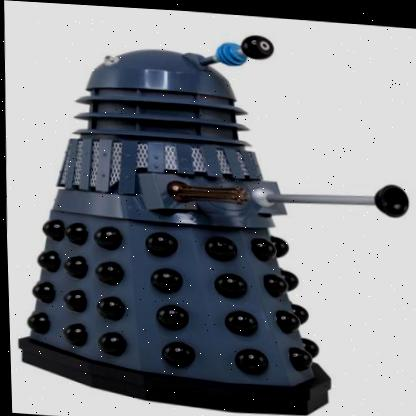dalek: (2, 0, 416, 416)
